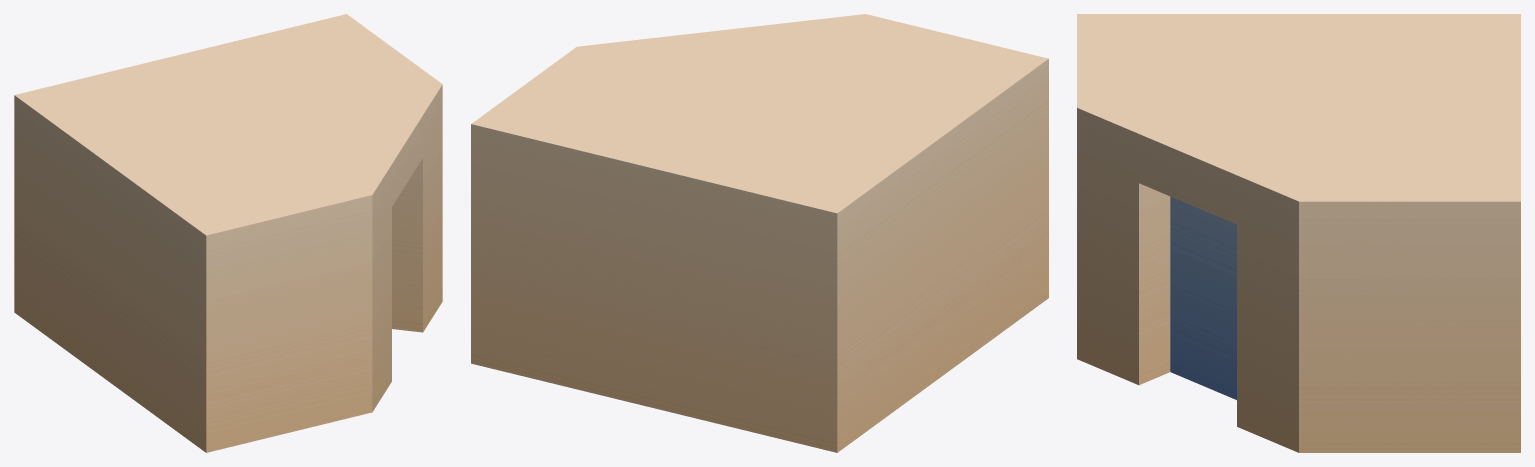
File: building_corner_window_top_square.glb
3 views of the same model, side by side, from view 1: azimuth 30°, elevation 25°; view 2: azimuth 150°, elevation 25°; view 3: azimuth 270°, elevation 25° (orthographic). The views are drawn at different scales.
Parts seen in each view (by area): view 1: building-corner-window-top-square; view 2: building-corner-window-top-square; view 3: building-corner-window-top-square.
Part boxes in pixels (bbox=[...]): building-corner-window-top-square: bbox=[14, 14, 442, 452]; building-corner-window-top-square: bbox=[471, 14, 1048, 452]; building-corner-window-top-square: bbox=[1077, 14, 1520, 452].
Bounding box in the file's own units: 1 × 0.625 × 1.
1 material, 1 textured.
